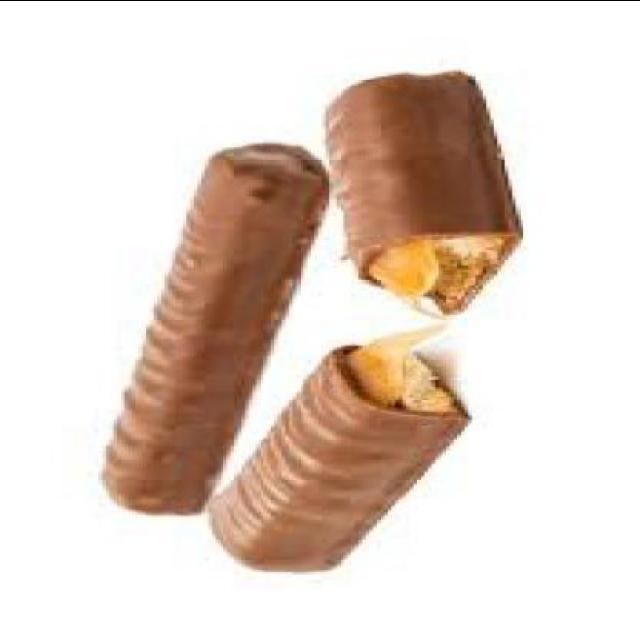Chocolate bar packaged: (204, 59, 516, 596), (84, 140, 333, 522)
